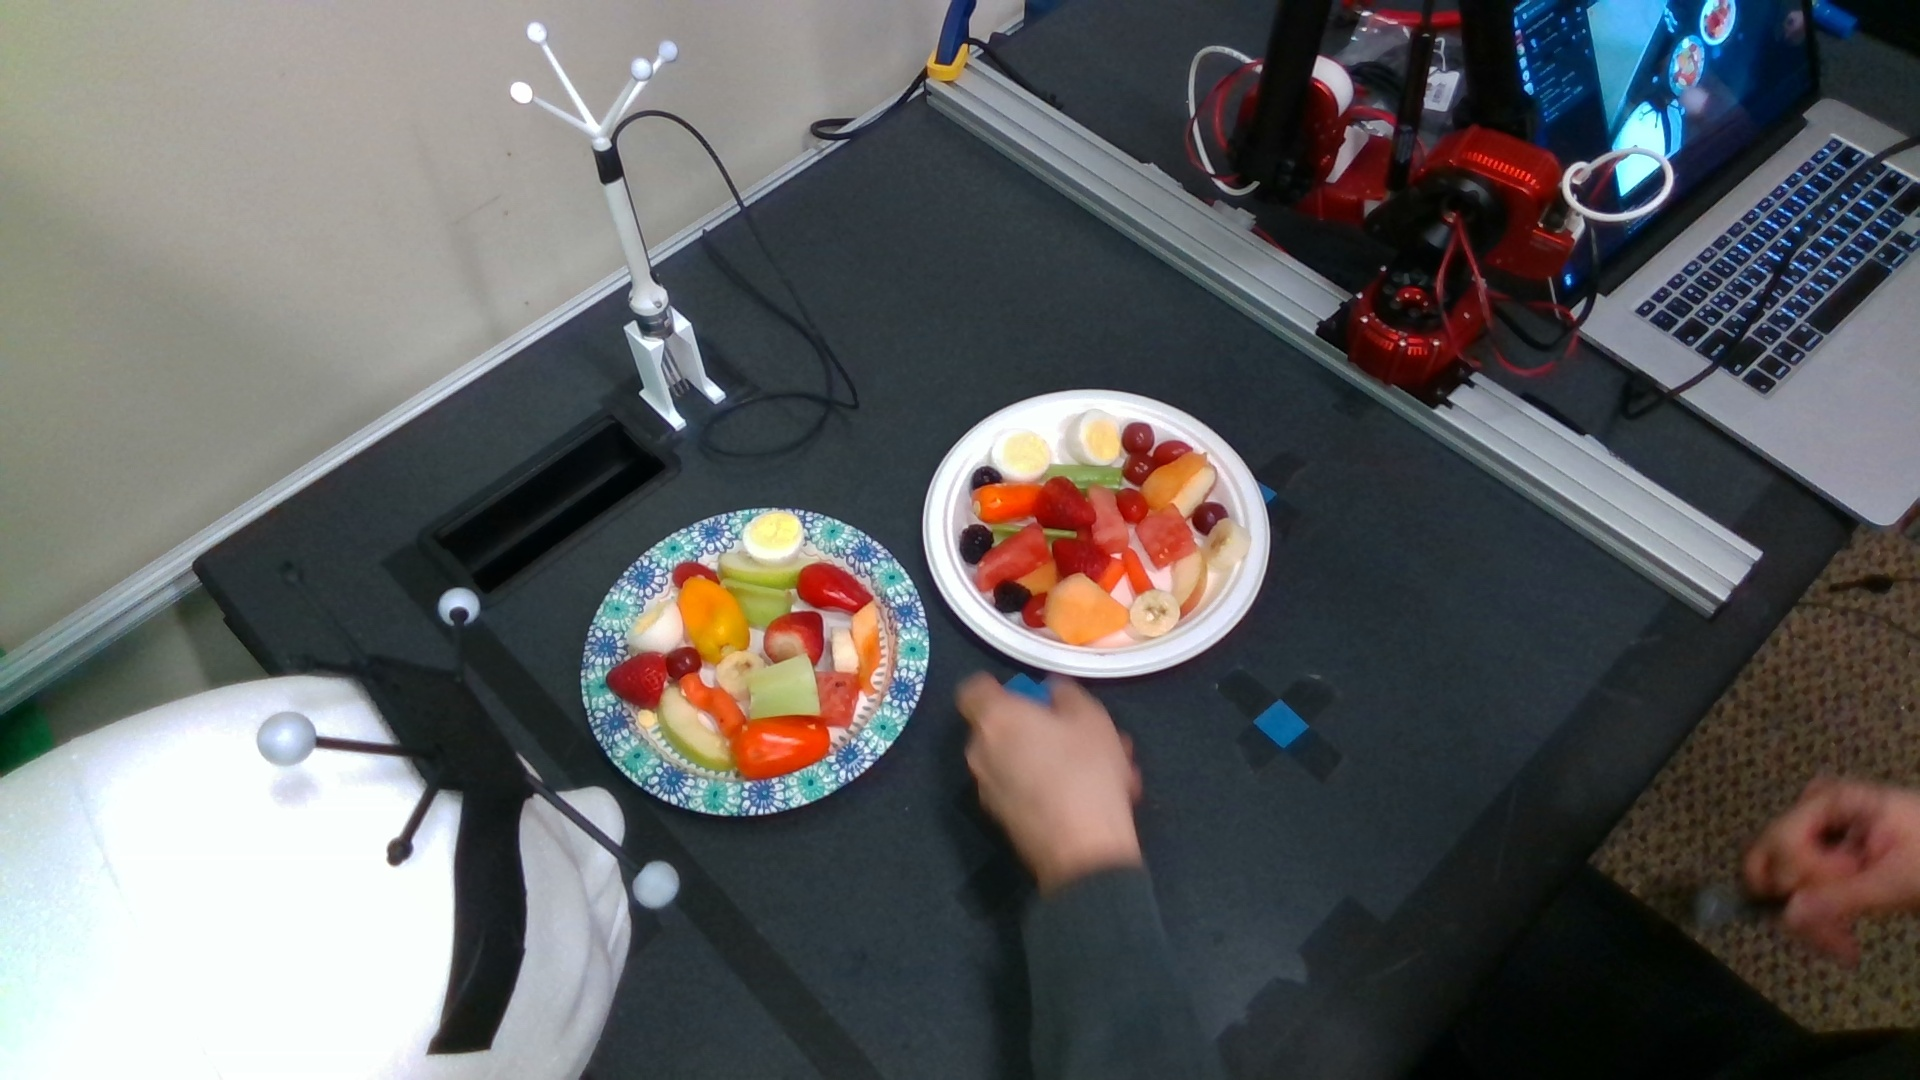apple: (659, 688, 732, 770), (720, 555, 800, 588), (1172, 545, 1207, 616), (1174, 465, 1217, 517)
banana: (1131, 591, 1182, 638), (717, 651, 767, 698), (1207, 520, 1249, 571), (832, 626, 858, 673)
bell pepper: (732, 717, 831, 779), (680, 578, 750, 663), (799, 563, 872, 613), (972, 484, 1044, 524)
blackberry: (960, 525, 993, 564), (993, 582, 1031, 612), (972, 467, 1000, 491)
cantalope: (1044, 574, 1127, 645), (1142, 452, 1204, 506), (851, 603, 882, 695)
carrot: (680, 675, 746, 735), (1126, 550, 1153, 595)
celery: (749, 653, 820, 719), (721, 579, 793, 630)
cherry tomato: (671, 563, 719, 588), (1117, 488, 1149, 522), (1156, 440, 1192, 465)
egg: (1065, 407, 1122, 464), (992, 430, 1052, 481), (744, 512, 802, 564), (626, 600, 683, 651)
grape: (1124, 454, 1158, 487), (1192, 502, 1228, 533), (1124, 422, 1155, 455), (669, 647, 702, 679)
melon: (975, 524, 1050, 589), (1135, 502, 1197, 568), (1091, 484, 1130, 553), (814, 673, 858, 727)
plate: (579, 506, 928, 818), (919, 386, 1271, 678)
strawberry: (764, 611, 824, 665), (608, 653, 666, 708), (1036, 477, 1096, 529), (1054, 537, 1109, 582)
